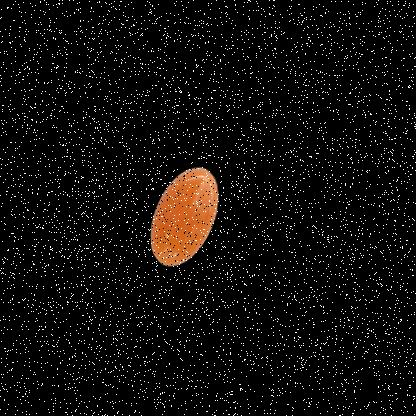welood: (115, 137, 269, 314)
